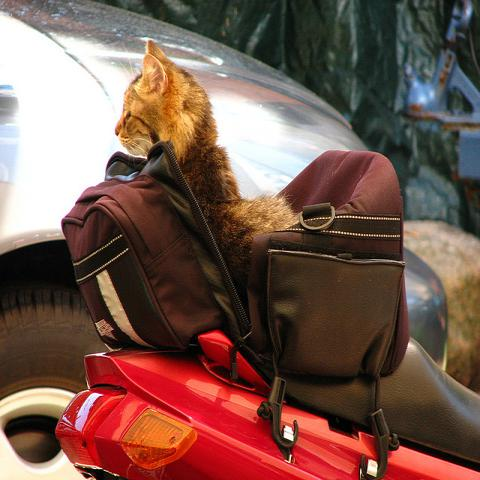car: (0, 4, 378, 474)
motorcycle: (51, 323, 480, 479)
